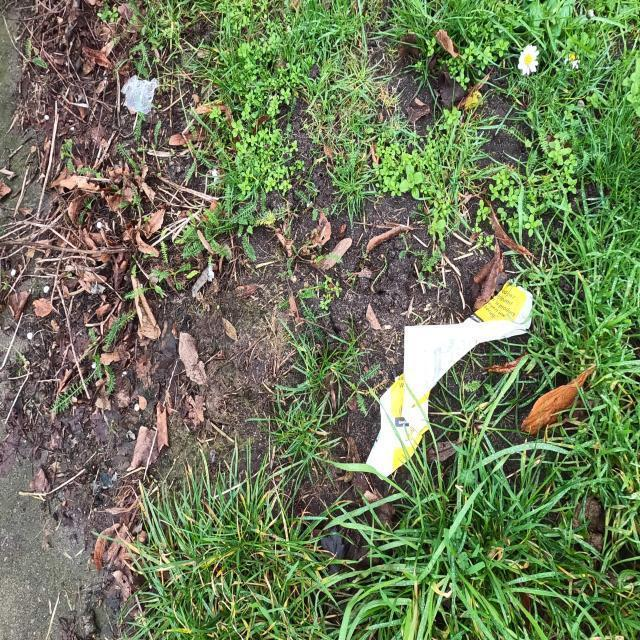Paper: (357, 272, 542, 478)
